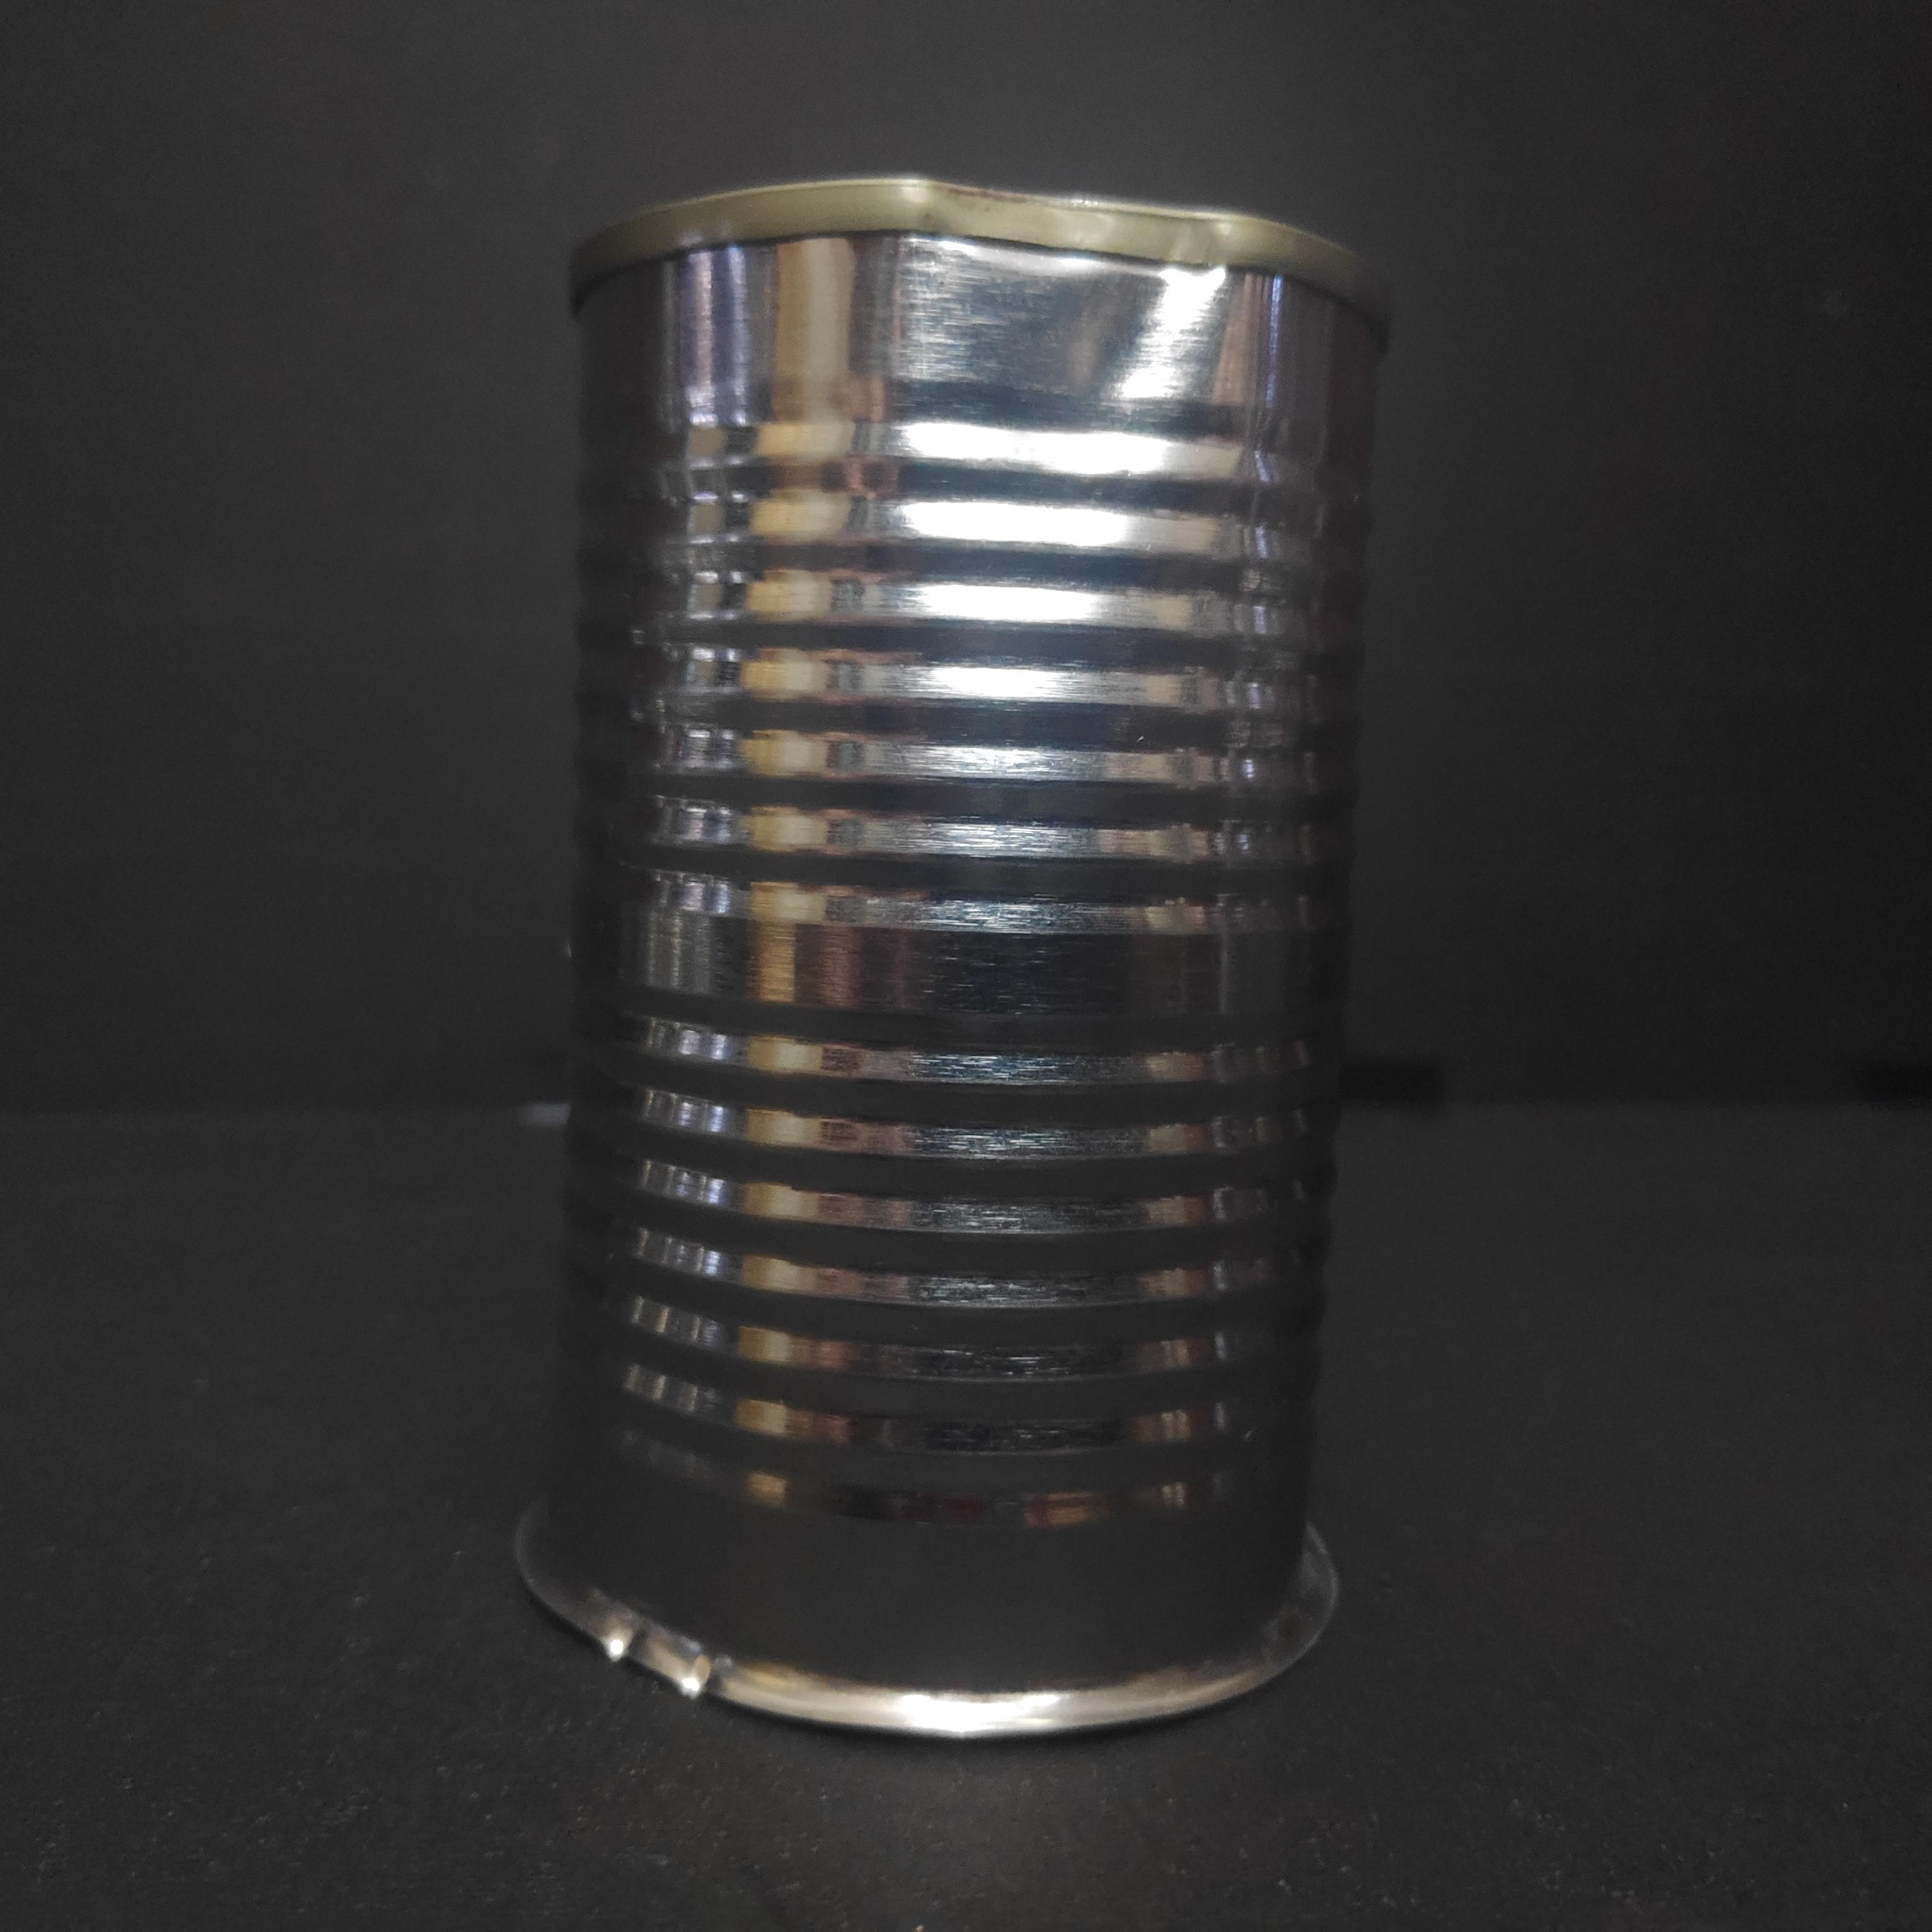Dented: (517, 147, 1419, 1721)
